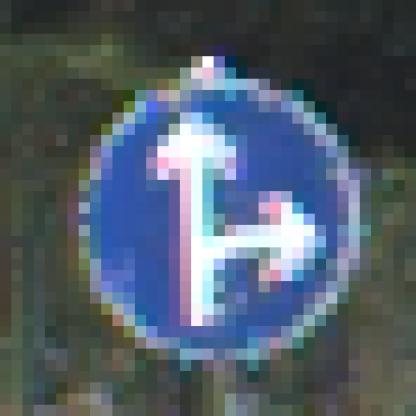Straight or Right: (68, 57, 361, 361)
